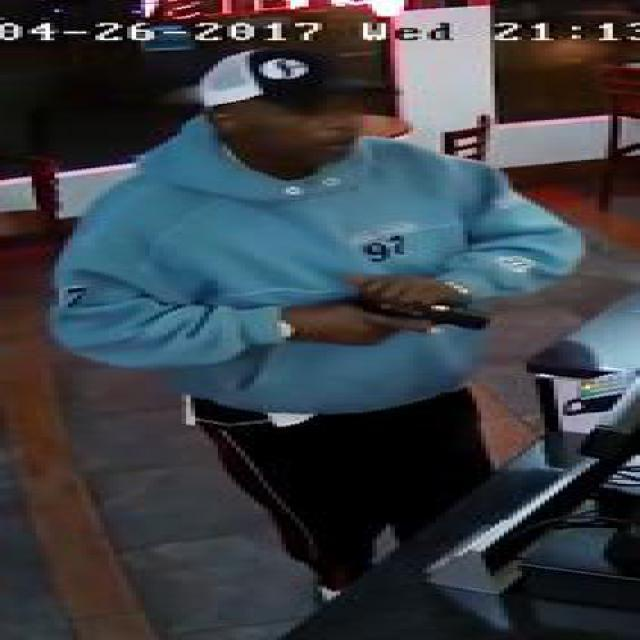Gun: (327, 292, 490, 343)
